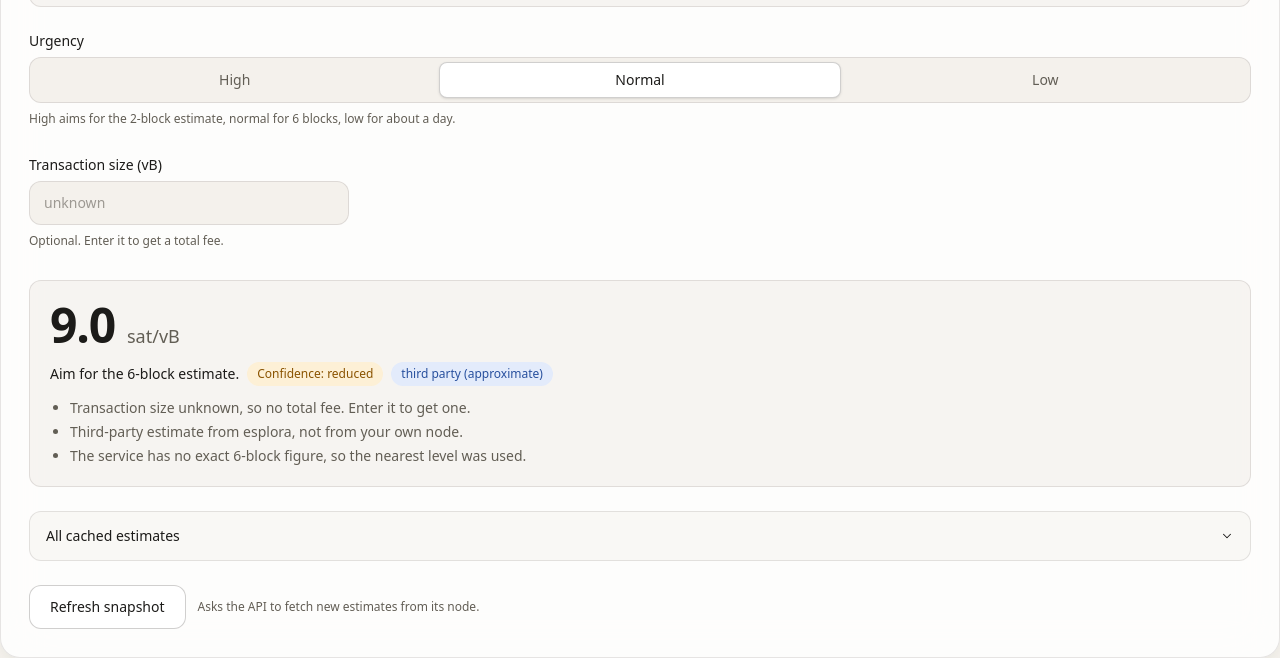
it: Fees page › labels third-party and approximate estimates
(page scrolled)
Expected: the text "third party (approximate)" is shown, [391,362,553,386]
Click the heading "All cached estimates" at coordinates (113, 536), box [46,526,1234,545]
(page scrolled)
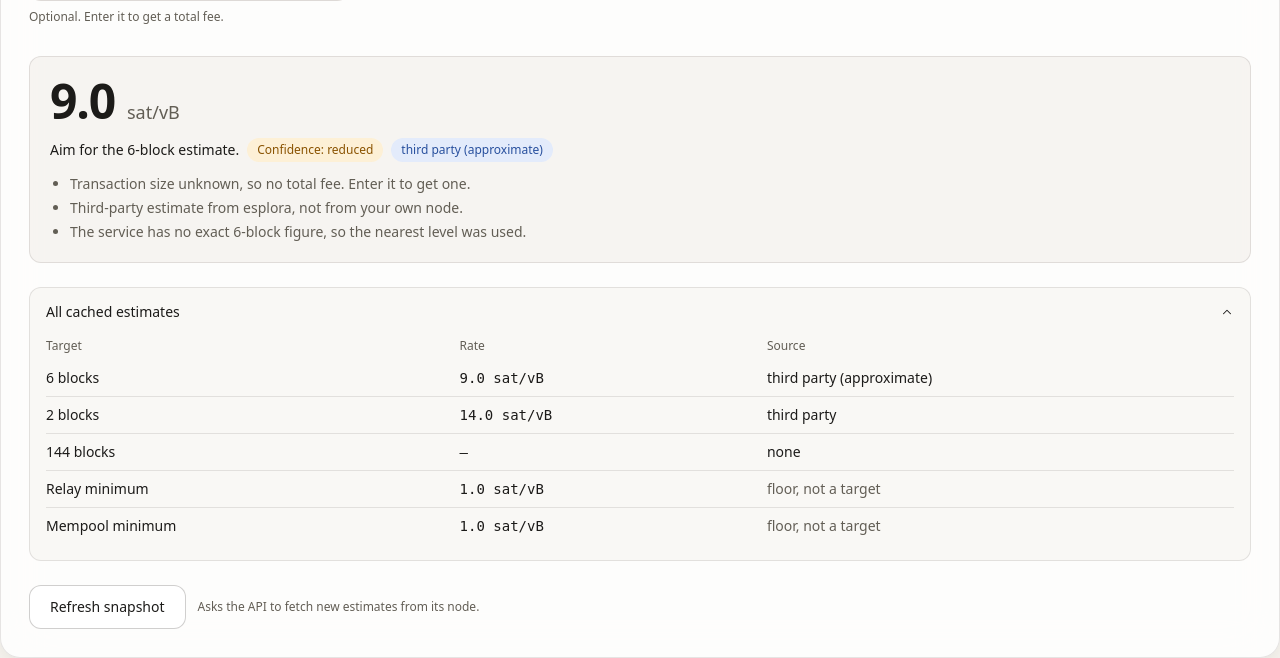
Result: the text "third party" is shown at [767,396,1234,434]
Result: the text "none" is shown at [767,434,1234,470]
